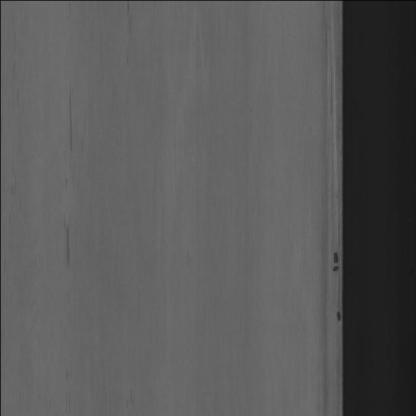oil_spot: (330, 238, 340, 277), (333, 306, 342, 328)
water_spot: (61, 91, 76, 284)
